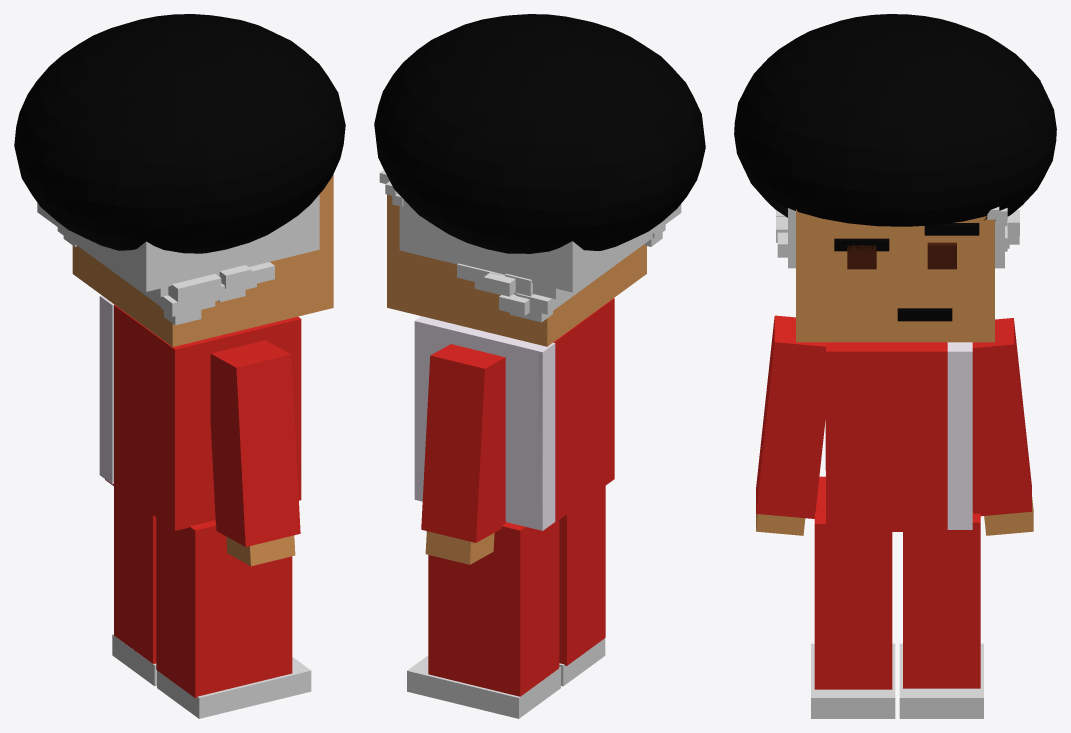
File: avatar.fbx
3 views of the same model, side by side, from view 1: azimuth 30°, elevation 25°; view 2: azimuth 150°, elevation 25°; view 3: azimuth 270°, elevation 25° (orthographic).
Visible parts, largest first — view 1: Cubo.009; view 2: Cubo.009; view 3: Cubo.009.
Part boxes in pixels (left/top/right/bottom): Cubo.009: left=14, top=14, right=345, bottom=718; Cubo.009: left=374, top=14, right=705, bottom=718; Cubo.009: left=734, top=14, right=1056, bottom=718.
Size of the model in its own units: 55.57 by 119 by 54.04.
